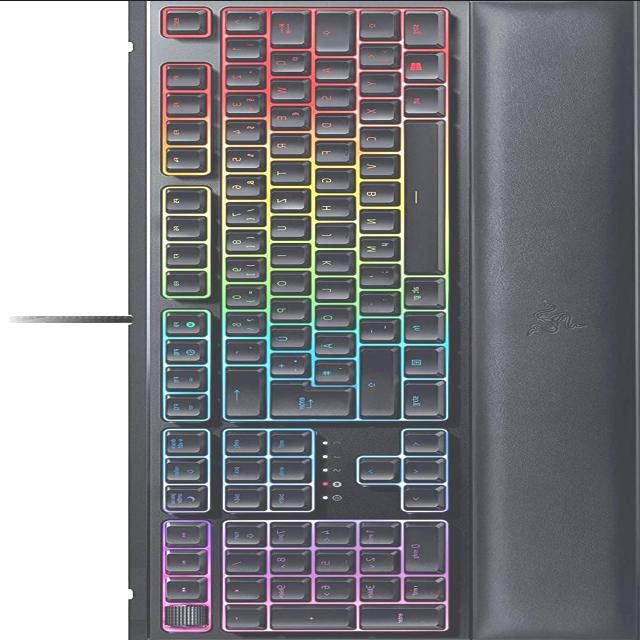0: (221, 283, 259, 306)
1: (221, 35, 259, 57)
2: (221, 63, 259, 85)
3: (221, 91, 259, 113)
4: (220, 118, 260, 140)
5: (220, 145, 260, 169)
6: (221, 173, 261, 197)
7: (220, 200, 261, 223)
8: (221, 227, 261, 251)
9: (221, 255, 261, 279)
a: (310, 57, 348, 77)
accent: (220, 338, 260, 360)
ae: (311, 332, 349, 354)
alt-left: (400, 85, 438, 113)
altgr-right: (400, 276, 438, 306)
b: (355, 180, 393, 203)
c: (355, 125, 393, 147)
caret: (221, 9, 259, 29)
comma: (355, 262, 393, 284)
d: (310, 112, 348, 133)
del: (220, 365, 260, 415)
e: (266, 105, 304, 126)
enter: (264, 378, 350, 415)
f: (311, 140, 349, 161)
g: (310, 167, 348, 189)
h: (310, 194, 348, 216)
hash: (310, 359, 350, 381)
i: (265, 242, 303, 264)
j: (310, 222, 348, 243)
k: (310, 249, 348, 271)
keyboard: (132, 0, 480, 640)
l: (310, 276, 348, 298)
less: (354, 42, 392, 64)
m: (355, 234, 396, 258)
minus: (355, 317, 393, 339)
n: (355, 208, 393, 230)
o: (266, 269, 304, 292)
oe: (311, 304, 349, 326)
p: (265, 297, 303, 319)
plus: (266, 352, 306, 374)
point: (355, 290, 393, 312)
q: (265, 49, 303, 71)
r: (265, 132, 303, 154)
s: (310, 85, 348, 106)
shift-left: (355, 9, 393, 37)
shift-lock: (311, 10, 349, 51)
shift-right: (355, 345, 395, 415)
space: (398, 117, 440, 273)
ss: (221, 311, 261, 333)
strg-left: (399, 8, 439, 44)
strg-right: (399, 379, 439, 417)
t: (266, 159, 302, 181)
tab: (265, 9, 303, 43)
u: (266, 214, 304, 236)
ue: (266, 325, 304, 347)
v: (354, 153, 392, 176)
w: (265, 78, 303, 98)
x: (354, 99, 392, 120)
y: (355, 70, 393, 92)
z: (265, 187, 303, 209)
